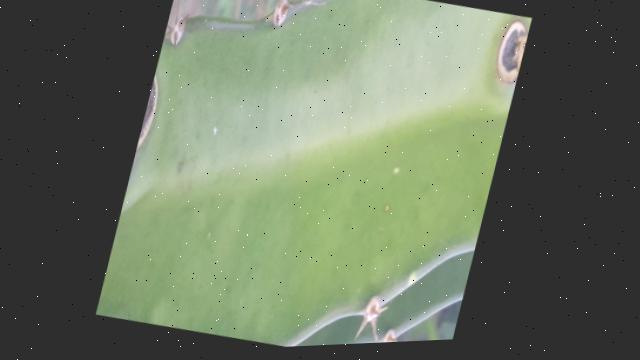stemcanker: (491, 17, 531, 88), (135, 86, 159, 153)
